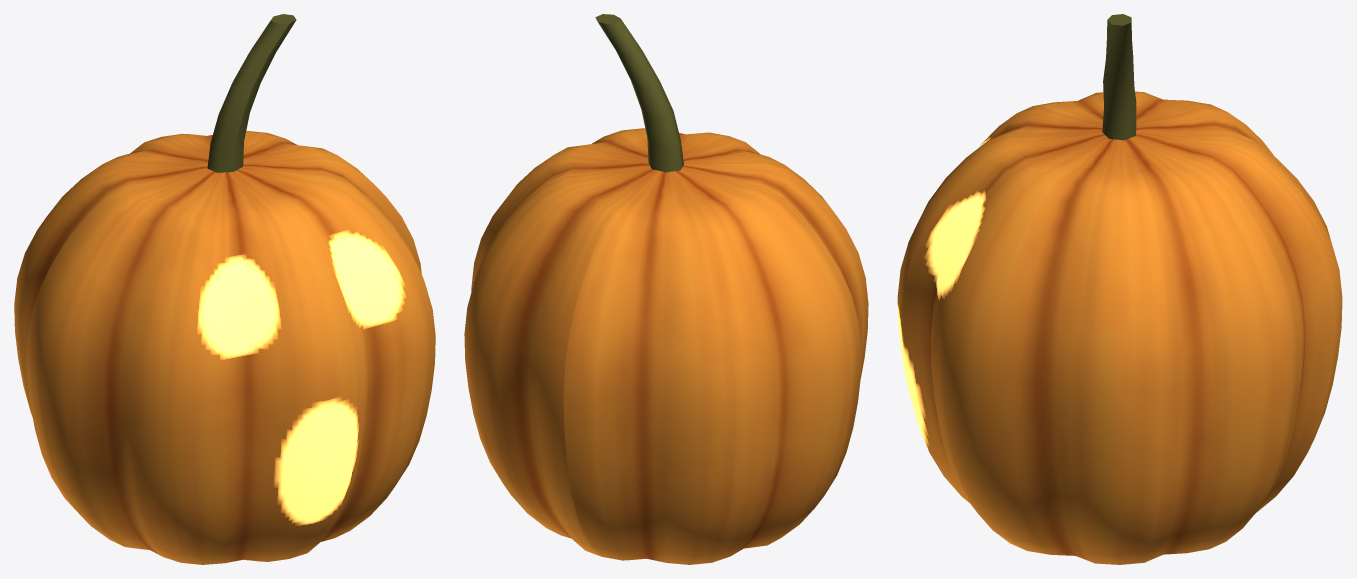
Rendered from spindle.glb.
3 views of the same model, side by side, from view 1: azimuth 30°, elevation 25°; view 2: azimuth 150°, elevation 25°; view 3: azimuth 270°, elevation 25° (orthographic). The views are drawn at different scales.
Visible parts, largest first — view 1: body, stem; view 2: body, stem; view 3: body, stem.
Part boxes in pixels (x1,y1,x2,y2): body: (14, 131, 435, 564); stem: (207, 14, 296, 172); body: (464, 128, 868, 564); stem: (595, 14, 683, 172); body: (897, 91, 1342, 564); stem: (1102, 14, 1136, 140).
Size of the model in its own units: 1.57 by 2.02 by 1.52.
Materials: 2 (1 with a texture image).
